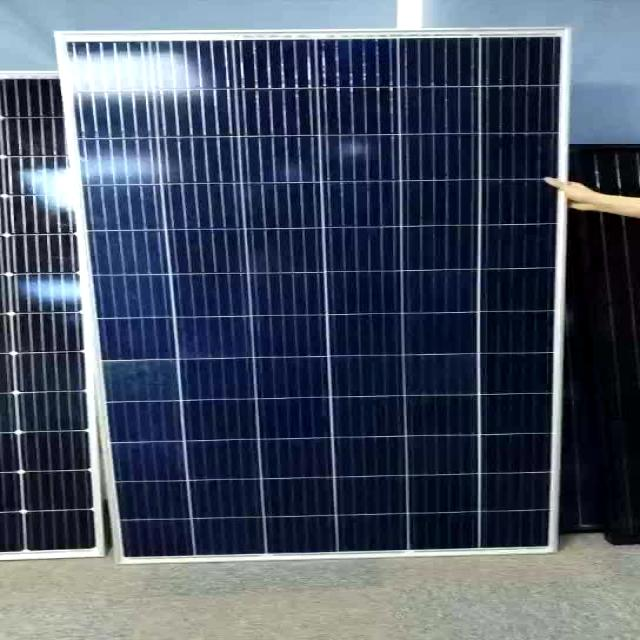crack: (66, 35, 615, 556)
